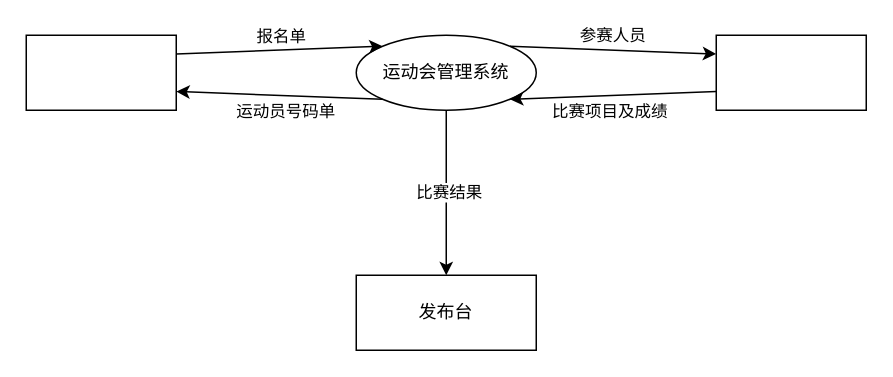
Image size: 893x377. Some labels were removed from this diagram. The shapes that lost their labels are listed below. From the top down, each one's centre as x and y in pixels, then its label:
(x=100, y=72): 运动员
(x=790, y=72): 裁判
